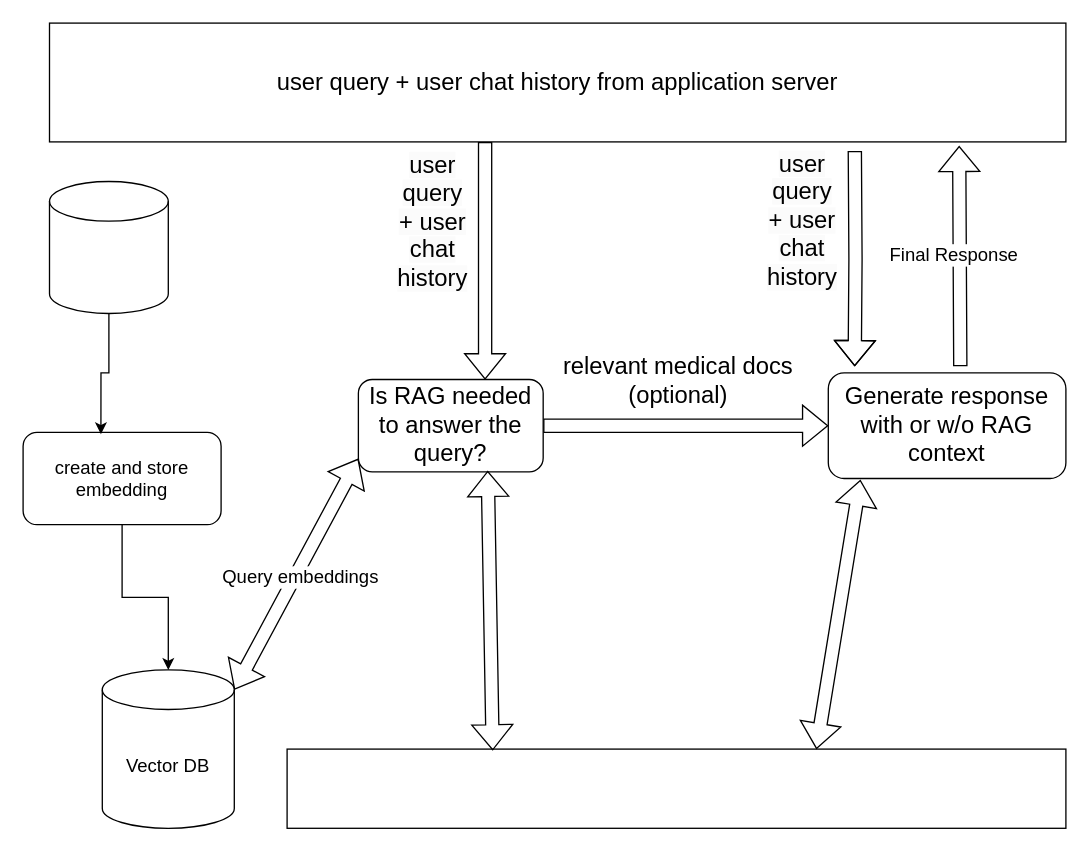
The diagram is 1089 pixels wide and 851 high, and some of its shapes have lost their labels. Each missing label, with the centre of its shape:
"Medical pdf/text sources" belongs at (108,247).
"Scalable LLM backend" belongs at (676,788).
